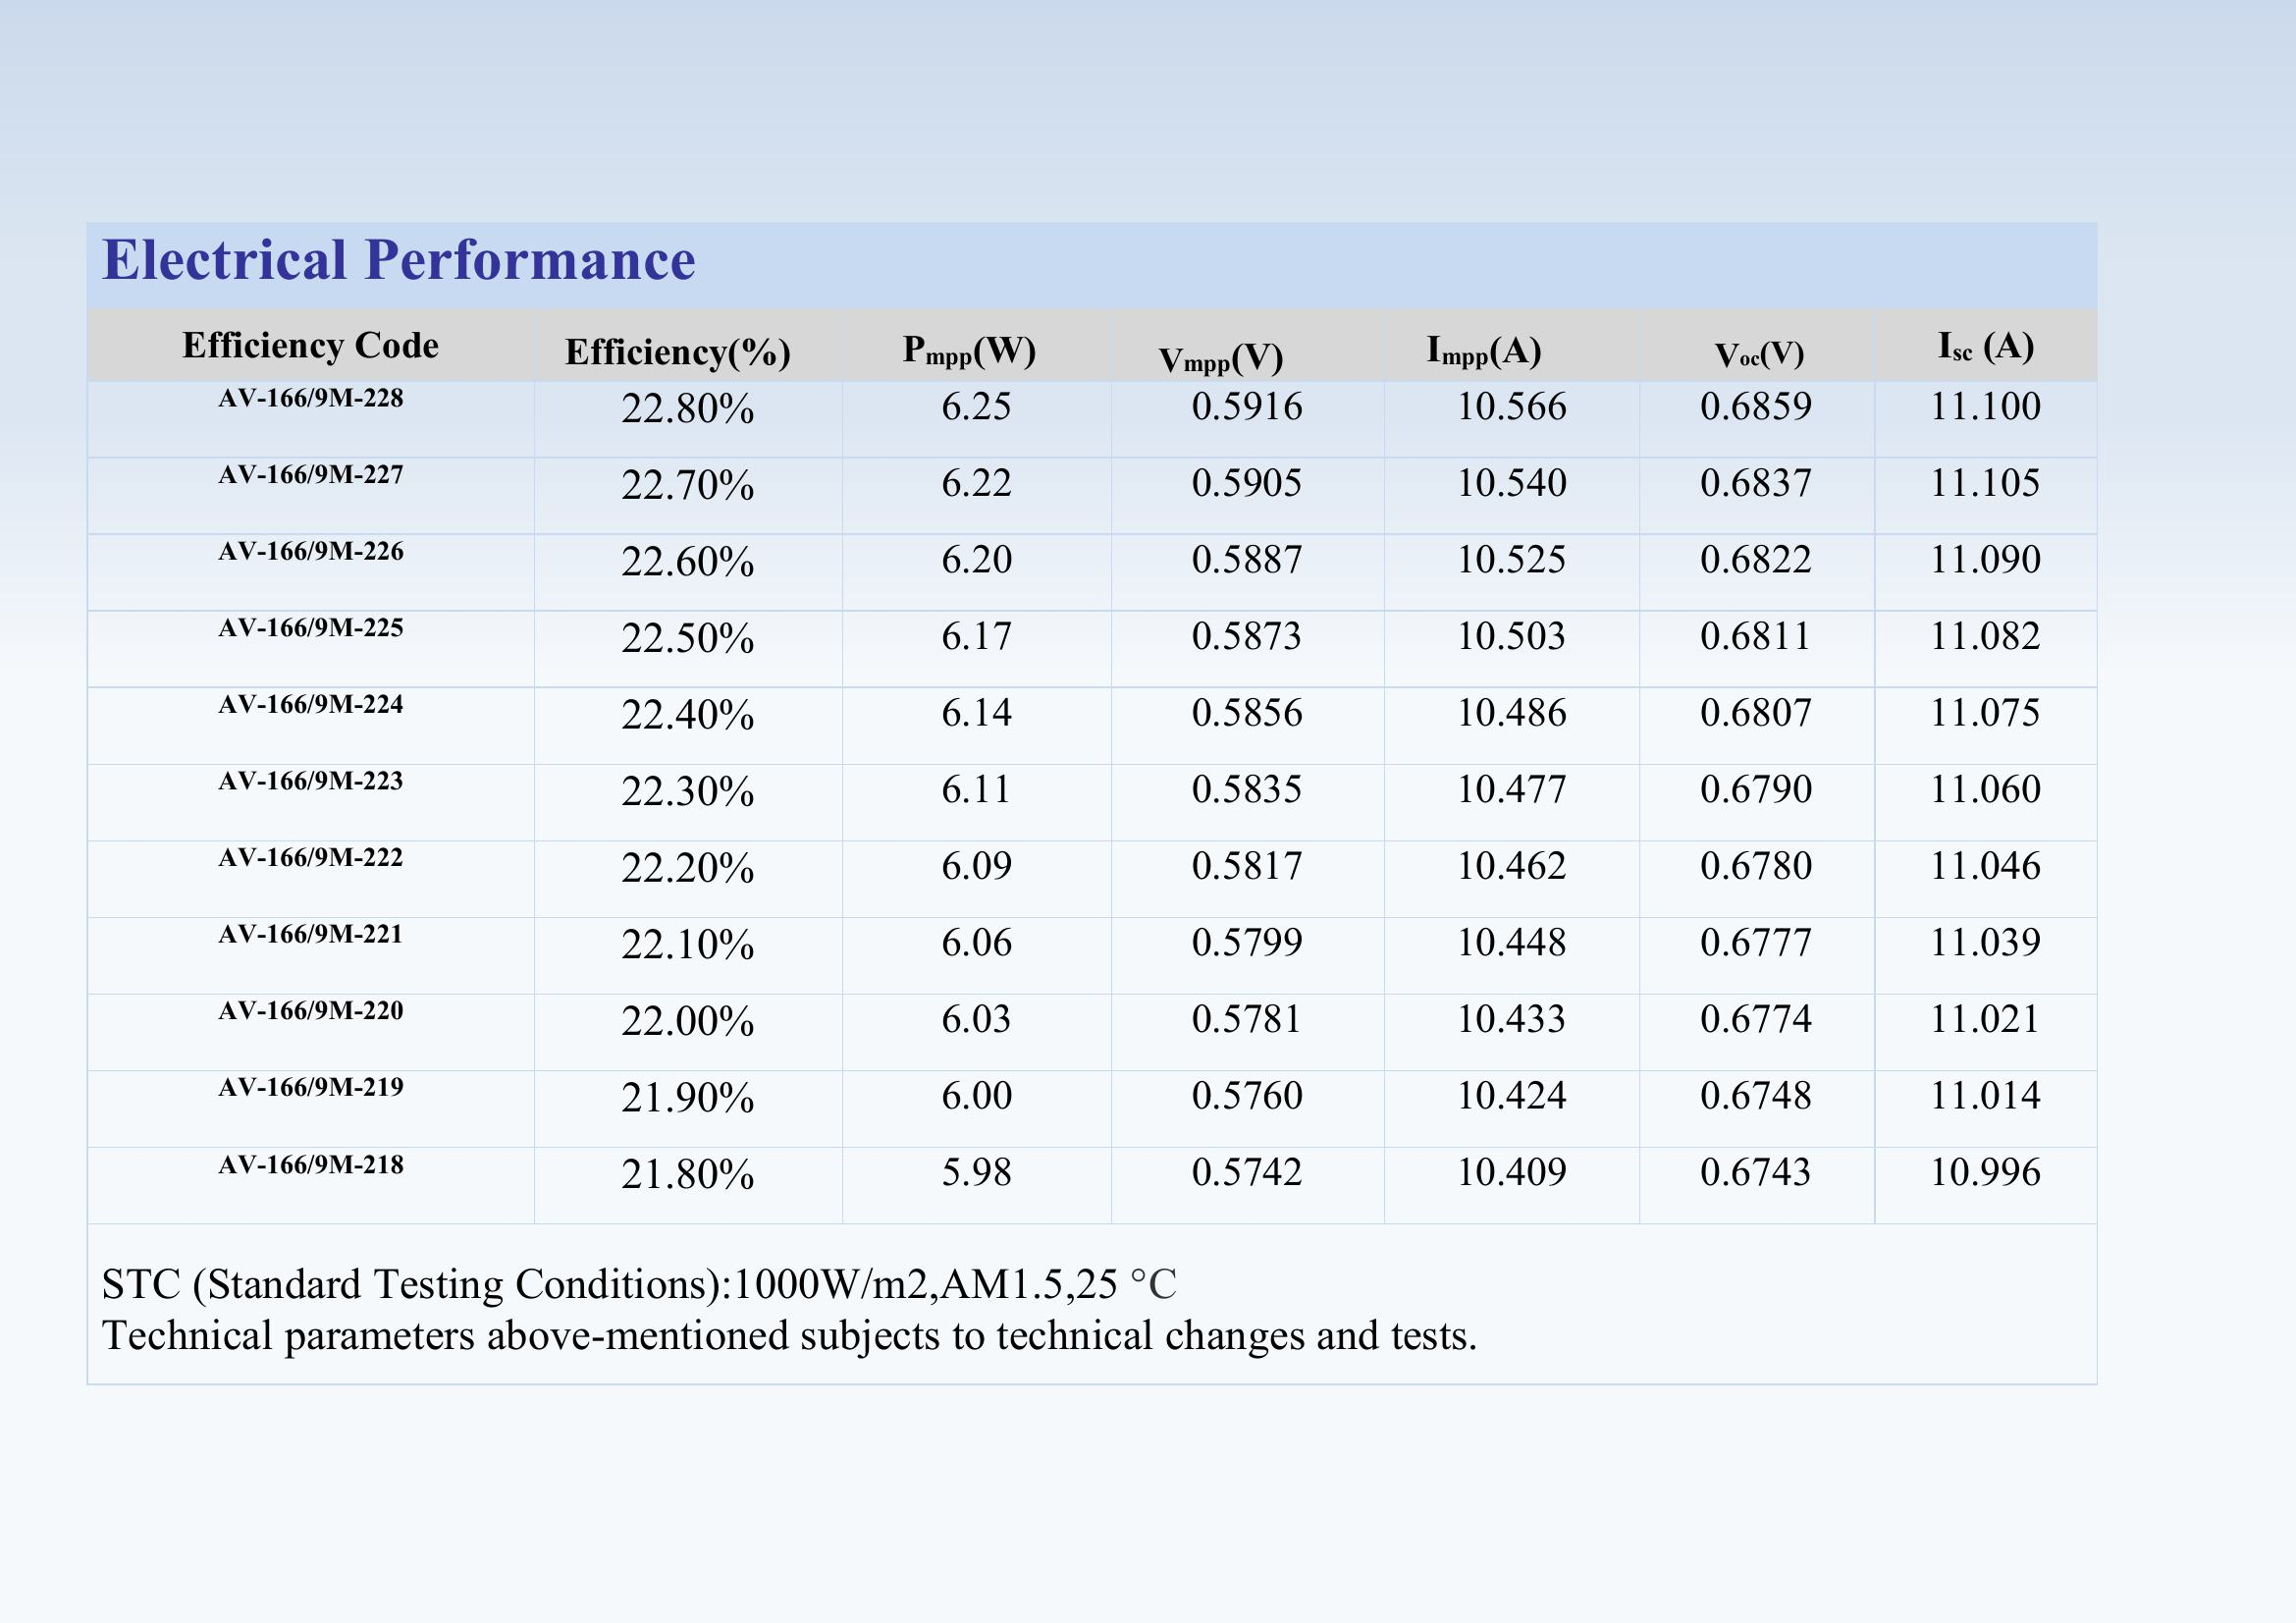table: (67, 295, 2115, 1223)
